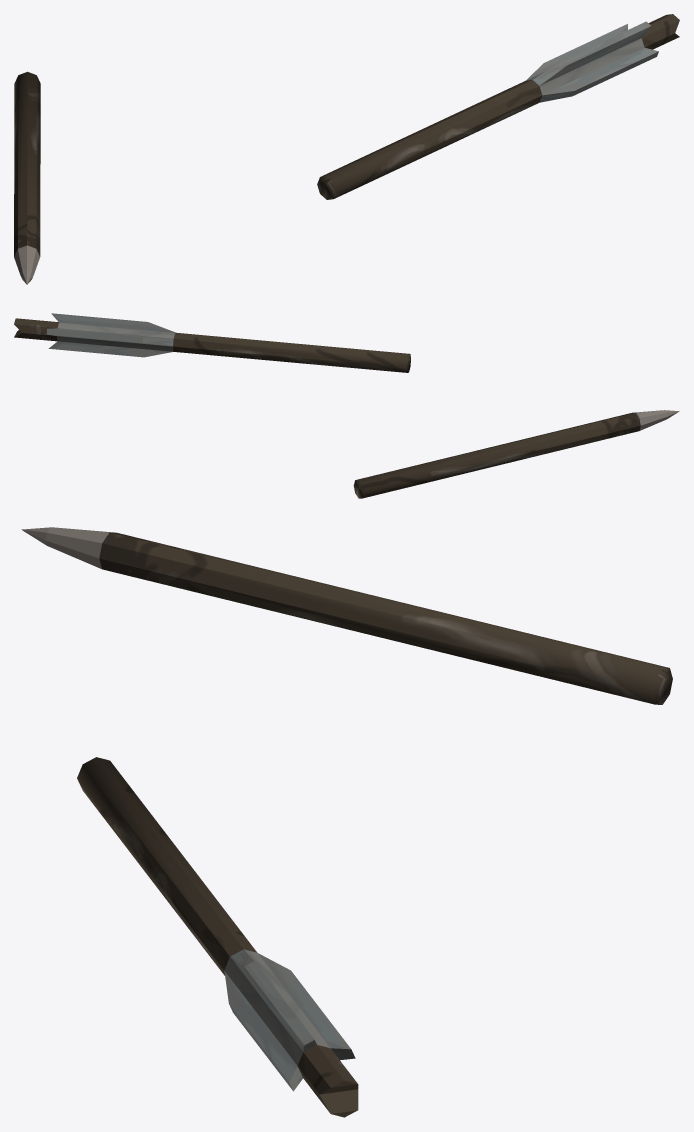
Rendered from WoodBoltBroken.fbx.
3 renders of one model, top to bottom at view 1: azimuth 30°, elevation 25°; view 2: azimuth 150°, elevation 25°; view 3: azimuth 270°, elevation 25°, orthographic. The views are drawn at different scales.
Visible parts, largest first — view 1: Cylinder.016; view 2: Cylinder.016; view 3: Cylinder.016.
Part boxes in pixels (box(x1,y1,x2,y2)): Cylinder.016: box(14, 14, 679, 284); Cylinder.016: box(14, 313, 679, 498); Cylinder.016: box(21, 527, 672, 1117).
Bounding box in the file's own units: 1139 × 58.87 × 549.
